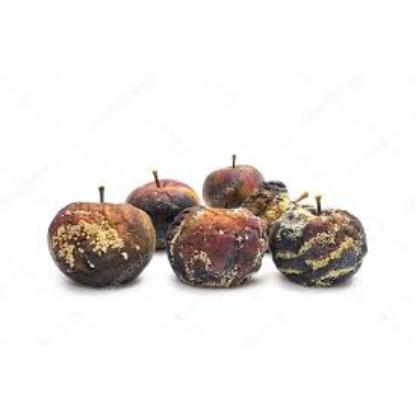apple: (45, 198, 155, 286), (165, 202, 267, 286), (269, 204, 365, 286), (121, 168, 201, 244), (202, 158, 264, 208)
